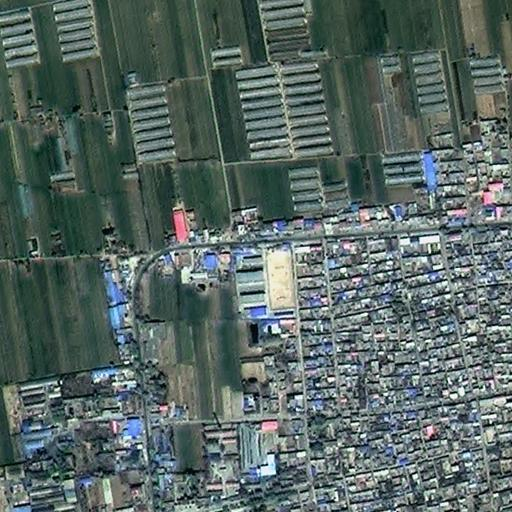school: (233, 242, 298, 319)
